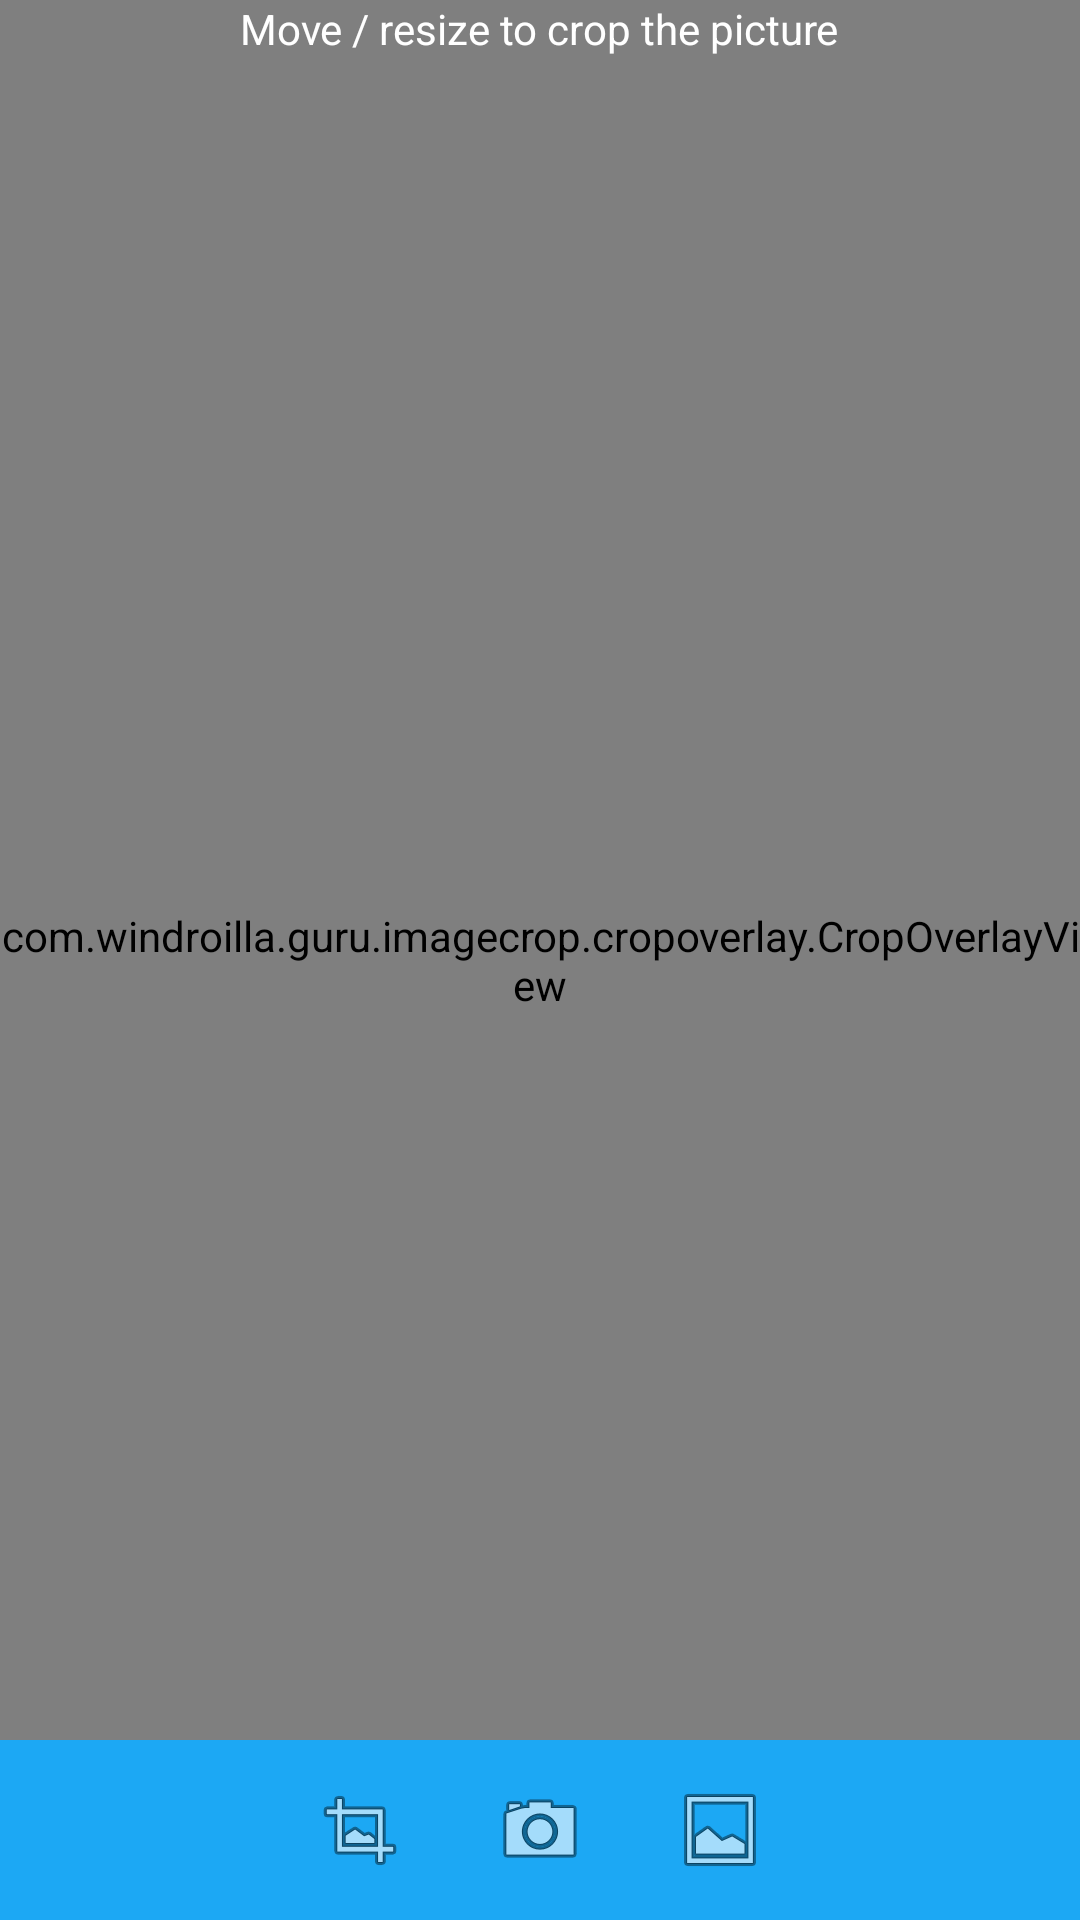

Named icons in this screenshot (1080 x 1920) and their centers, (x,y):
camera: (540,1828)
gallery: (720,1830)
